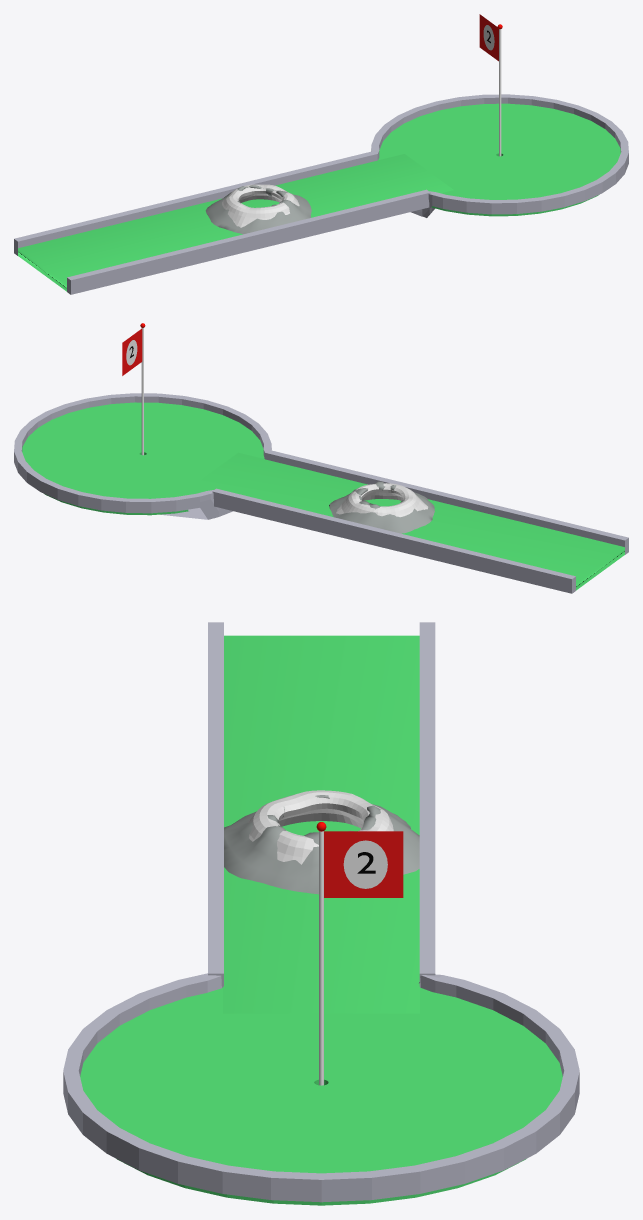
Rendered from bane2.fbx.
The picture shows the model from 3 angles, top to bottom: view 1: azimuth 30°, elevation 25°; view 2: azimuth 150°, elevation 25°; view 3: azimuth 270°, elevation 25°; orthographic projection. The views are drawn at different scales.
Parts seen in each view (by area): view 1: Cylinder, bane, Cube, Cylinder.001, Cube.002, krater, Torus.001, Plane.002; view 2: Cylinder, bane, Cube.002, Cylinder.001, Cube, krater, Torus.001, Plane.002; view 3: Cylinder, bane, Cylinder.001, Cube.002, krater, Cube, Torus.001, Plane.002, Circle.002, Cylinder.003.
Part boxes in pixels (left/top/right/bottom): Cylinder: left=378, top=103, right=620, bottom=216; bane: left=18, top=154, right=453, bottom=291; Cube: left=67, top=189, right=430, bottom=294; Cylinder.001: left=371, top=94, right=628, bottom=217; Cube.002: left=14, top=151, right=377, bottom=255; krater: left=205, top=185, right=311, bottom=234; Torus.001: left=222, top=184, right=299, bottom=227; Plane.002: left=479, top=14, right=498, bottom=61; Cylinder: left=22, top=402, right=264, bottom=515; bane: left=189, top=452, right=624, bottom=590; Cube.002: left=212, top=488, right=575, bottom=593; Cylinder.001: left=14, top=393, right=271, bottom=519; Cube: left=265, top=450, right=628, bottom=554; krater: left=329, top=481, right=434, bottom=533; Torus.001: left=336, top=483, right=428, bottom=517; Plane.002: left=122, top=328, right=142, bottom=375; Cylinder: left=80, top=987, right=562, bottom=1205; bane: left=223, top=635, right=419, bottom=1013; Cylinder.001: left=63, top=973, right=579, bottom=1202; Cube.002: left=419, top=622, right=435, bottom=986; krater: left=224, top=795, right=419, bottom=894; Cube: left=208, top=622, right=223, bottom=987; Torus.001: left=248, top=790, right=393, bottom=864; Plane.002: left=324, top=831, right=403, bottom=897; Circle.002: left=343, top=840, right=387, bottom=888; Cylinder.003: left=319, top=831, right=323, bottom=1085.
Bounding box in the file's own units: 535 × 138 × 210.
